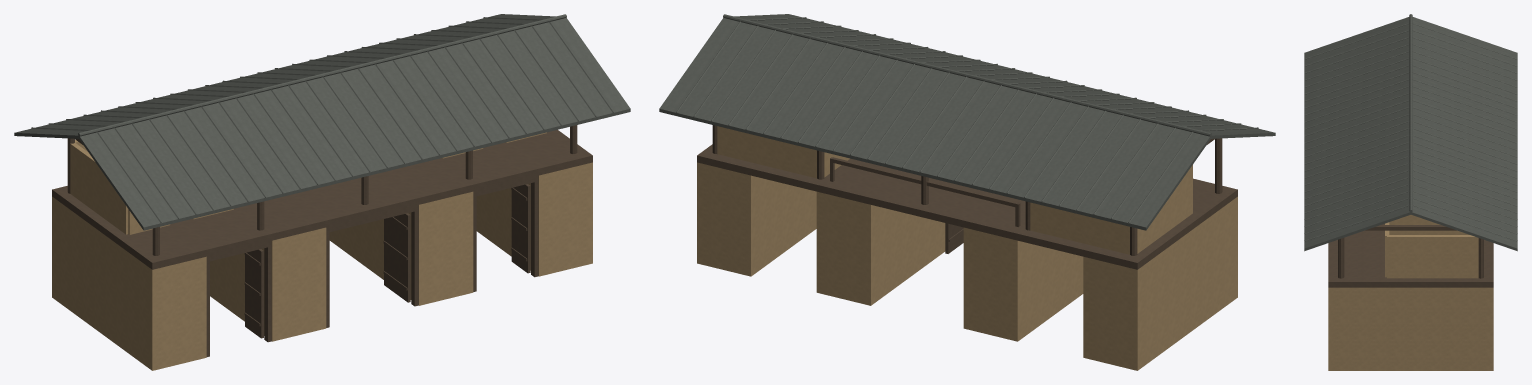
The model's file is yong-Y-LOD1.glb.
3 renders of one model, left to right at view 1: azimuth 30°, elevation 25°; view 2: azimuth 150°, elevation 25°; view 3: azimuth 270°, elevation 25°, orthographic. The views are drawn at different scales.
Visible parts, largest first — view 1: yong-Y-static_tile, yong-Y-static_earth, yong-Y-static_timber; view 2: yong-Y-static_tile, yong-Y-static_earth, yong-Y-static_timber; view 3: yong-Y-static_tile, yong-Y-static_earth, yong-Y-static_timber.
Boxes of the visible parts, x1=… form: yong-Y-static_tile: x1=14, y1=14, x2=630, y2=230; yong-Y-static_earth: x1=52, y1=132, x2=592, y2=370; yong-Y-static_timber: x1=52, y1=125, x2=592, y2=356; yong-Y-static_tile: x1=659, y1=14, x2=1275, y2=230; yong-Y-static_earth: x1=697, y1=126, x2=1237, y2=370; yong-Y-static_timber: x1=697, y1=125, x2=1237, y2=269; yong-Y-static_tile: x1=1304, y1=14, x2=1517, y2=251; yong-Y-static_earth: x1=1328, y1=215, x2=1493, y2=370; yong-Y-static_timber: x1=1328, y1=223, x2=1493, y2=287.
Bounding box in the file's own units: 25.2 × 10.23 × 11.62.
3 materials, 3 textured.
